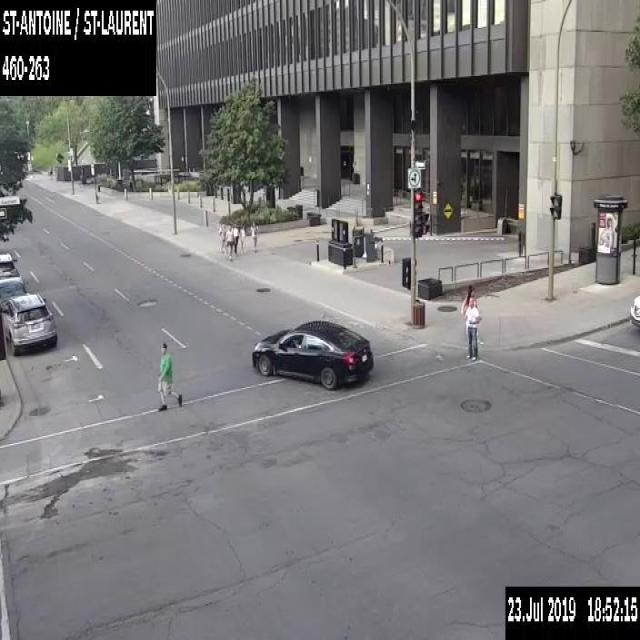pedestrian: (157, 341, 183, 412), (462, 296, 481, 362), (459, 284, 478, 347), (225, 223, 235, 259), (250, 217, 258, 252), (218, 220, 226, 254), (231, 222, 239, 254), (239, 222, 246, 255)
vehicle: (250, 318, 374, 390), (0, 292, 57, 354), (0, 275, 27, 301), (0, 251, 20, 277), (628, 292, 639, 328)
